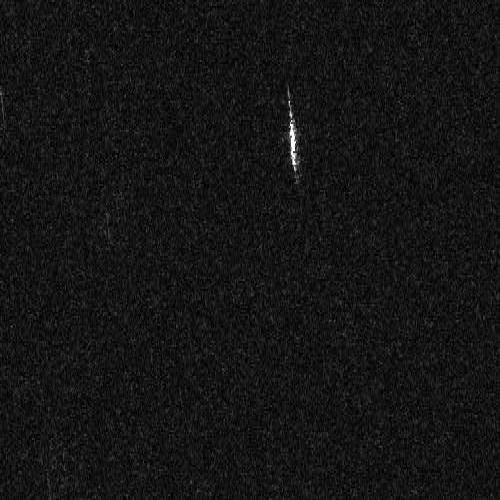ship: (287, 89, 299, 175)
